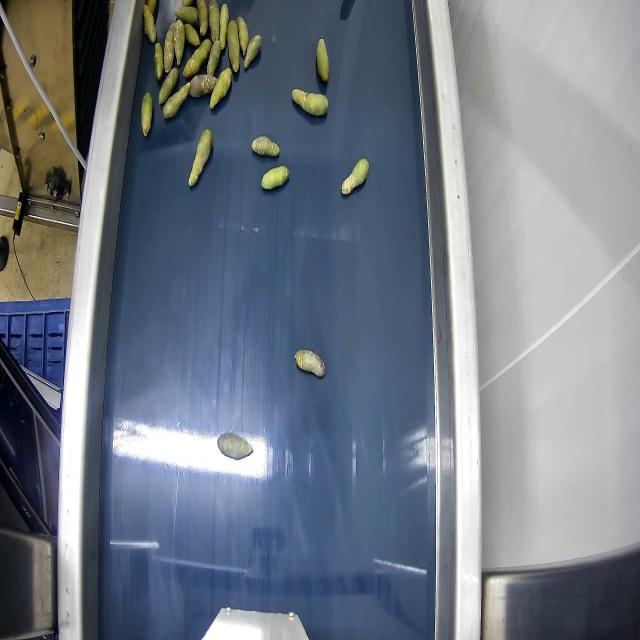Baby Potato: (188, 128, 212, 187), (216, 431, 254, 461), (183, 38, 211, 78), (293, 87, 329, 117), (341, 156, 368, 194), (294, 347, 326, 378), (164, 82, 190, 118), (210, 68, 232, 110), (158, 66, 178, 105), (260, 164, 290, 190), (186, 74, 216, 98), (250, 134, 280, 156), (243, 34, 261, 70), (315, 37, 329, 82), (227, 20, 239, 71), (172, 20, 185, 66), (140, 91, 152, 137), (142, 3, 156, 42), (207, 38, 221, 76), (163, 22, 174, 70), (175, 4, 199, 26), (218, 2, 228, 50), (236, 15, 248, 54), (196, 0, 208, 36), (209, 1, 219, 43), (154, 41, 164, 81), (184, 22, 199, 45), (147, 0, 157, 16)
